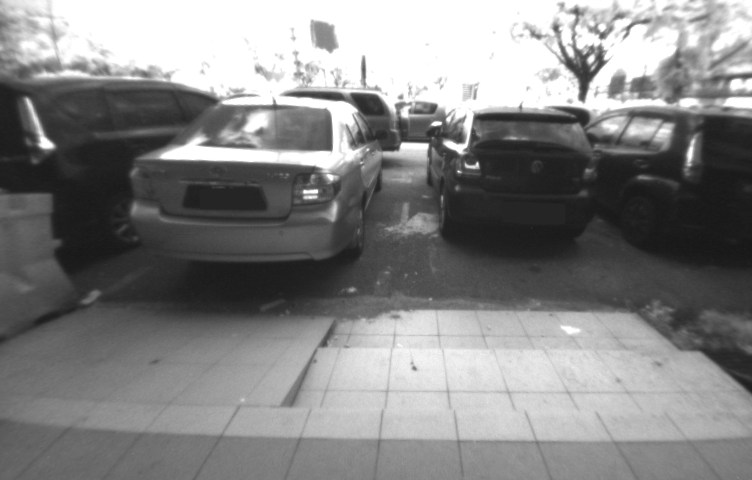down_steps: (284, 304, 744, 424)
mixed_gradient: (228, 307, 375, 427)
